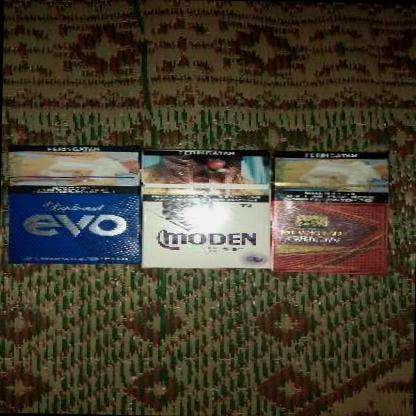objects: (4, 143, 141, 265), (138, 148, 272, 270), (270, 150, 390, 275)
